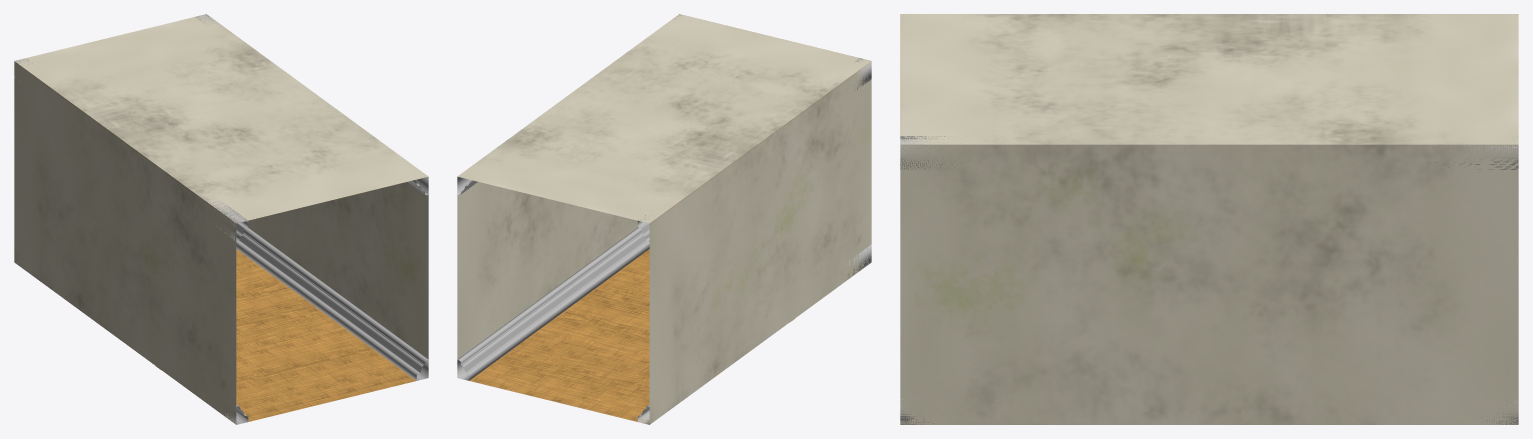
The model's file is Hallway_HallBasic_DoorRight.fbx.
3 renders of one model, left to right at view 1: azimuth 30°, elevation 25°; view 2: azimuth 150°, elevation 25°; view 3: azimuth 270°, elevation 25°, orthographic. The views are drawn at different scales.
Visible parts, largest first — view 1: Hallway_HallBasic_DoorRight; view 2: Hallway_HallBasic_DoorRight; view 3: Hallway_HallBasic_DoorRight.
Boxes of the visible parts, x1,y1,x2,y2 form: Hallway_HallBasic_DoorRight: (14,14,428,424); Hallway_HallBasic_DoorRight: (457,14,871,424); Hallway_HallBasic_DoorRight: (900,14,1518,424).
Size of the model in its own units: 748 by 751 by 1496.
Materials: 1 (1 with a texture image).
